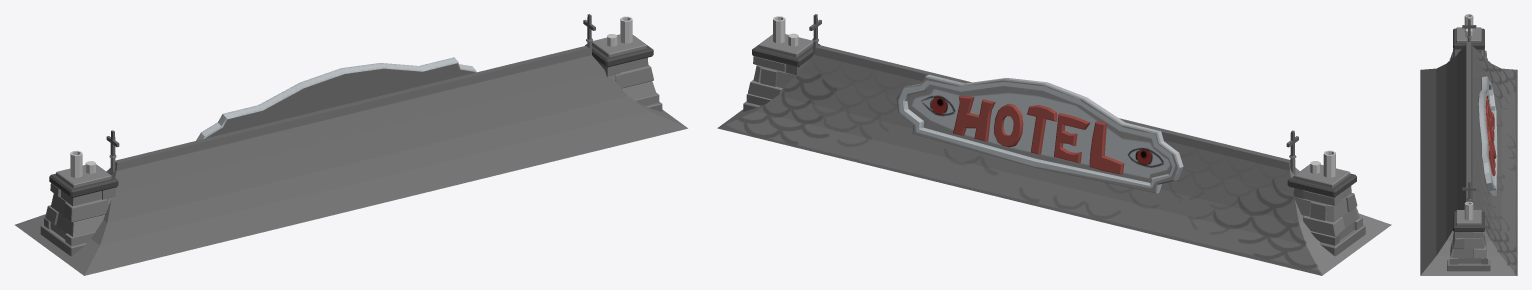
Rendered from Roof.fbx.
3 renders of one model, left to right at view 1: azimuth 30°, elevation 25°; view 2: azimuth 150°, elevation 25°; view 3: azimuth 270°, elevation 25°, orthographic. The views are drawn at different scales.
Parts seen in each view (by area): view 1: polySurface56; view 2: polySurface56; view 3: polySurface56.
Part boxes in pixels (x1=…): polySurface56: x1=15, y1=14, x2=687, y2=275; polySurface56: x1=717, y1=14, x2=1391, y2=275; polySurface56: x1=1420, y1=14, x2=1517, y2=275.
Bounding box in the file's own units: 2750 × 451 × 550.
1 material, 1 textured.
